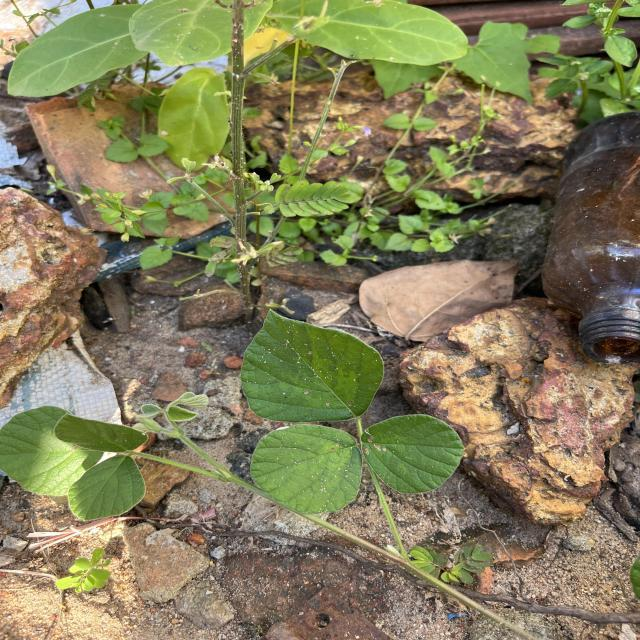Pseudarthria viscida: (239, 304, 467, 518)
